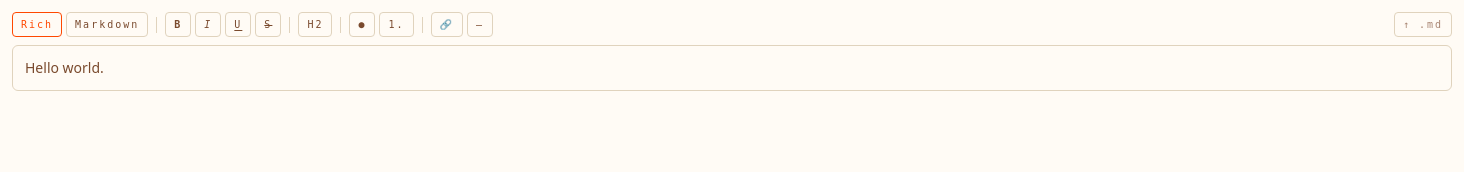
Test: <NotesEditor> rich-text toolbar (#126) › Cancel closes the link picker without applying
The image size is (1464, 172).
Click the button with test id "notes-toolbar-link". click: x=447, y=24
box: [430, 12, 463, 37]
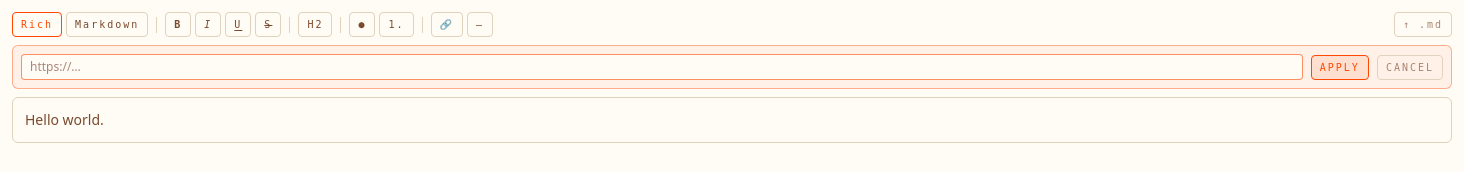
Check: the element with test id "notes-link-picker" is shown, box [12, 45, 1452, 89]
Click the button with test id "notes-link-picker-cancel". click: x=1410, y=67
box: [1377, 54, 1443, 80]
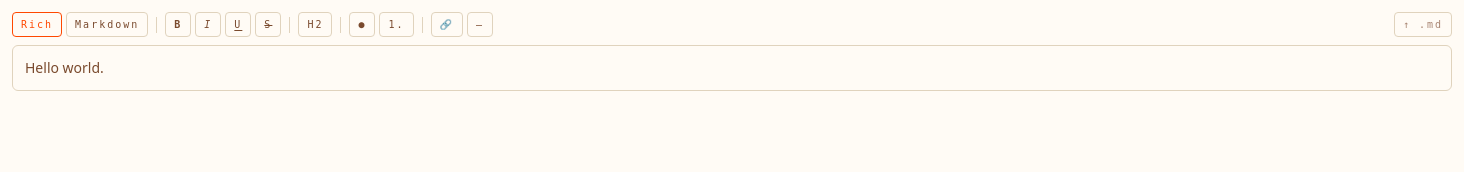
Check: the element with test id "notes-link-picker" is gone
